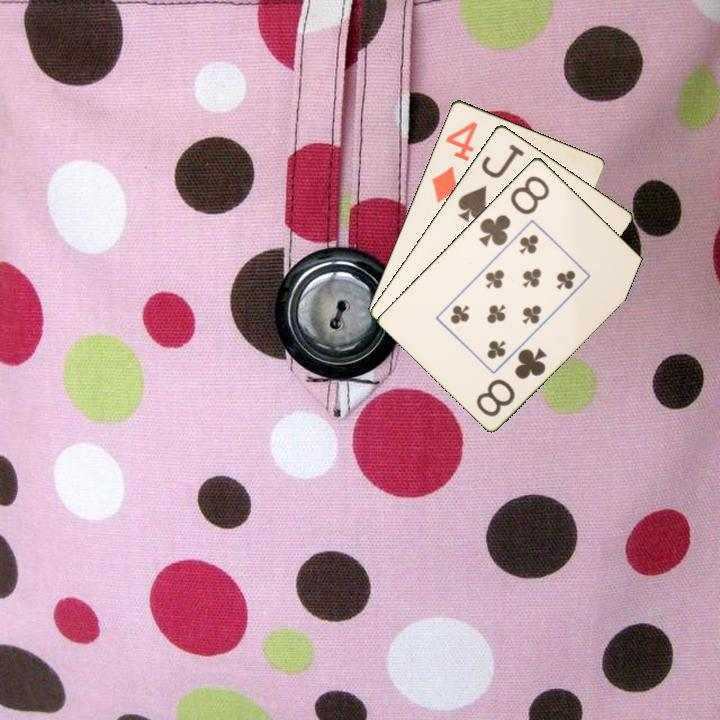4d: (428, 118, 480, 206)
8c: (475, 172, 553, 249), (472, 344, 550, 419)
Js: (454, 140, 527, 225)
